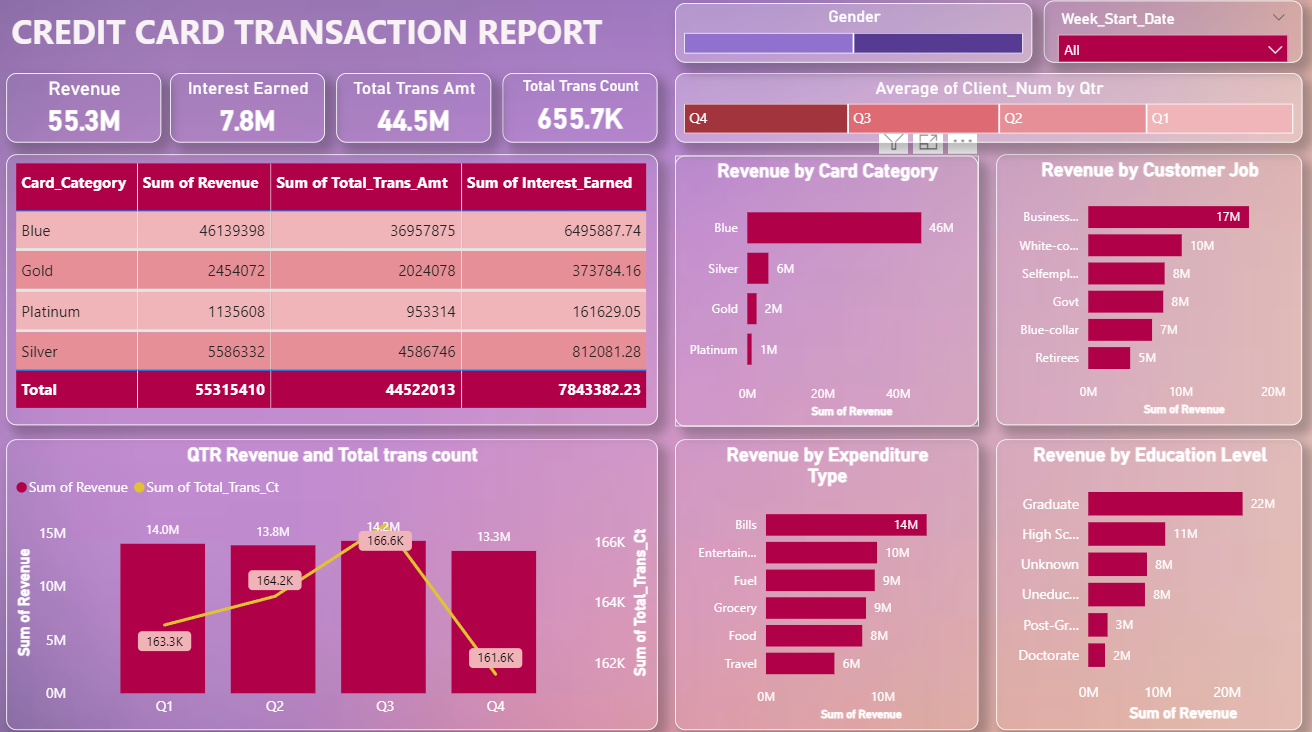

The dashboard page shown, as its layout file describes it:
{"tool":"powerbi","page":{"name":"Page 2","canvas":[1280,720],"ordinal":0},"visuals":[{"type":"lineClusteredColumnComboChart","title":"QTR Revenue and Total trans count","fields":{"Category":["cc_detail.Qtr"],"Y":["Sum(cc_detail.Revenue)"],"Y2":["Sum(cc_detail.Total_Trans_Ct)"]},"box":[10.9,430.9,628.6,281.1],"z":0},{"type":"barChart","title":"Revenue by Expenditure Type","fields":{"Y":["Sum(cc_detail.Revenue)"],"Category":["cc_detail.Exp_Type"]},"box":[656.3,430.9,293.2,281.1],"z":1000},{"type":"barChart","title":"Revenue by Education Level","fields":{"Y":["Sum(cc_detail.Revenue)"],"Category":["cust_detail.Education_Level"]},"box":[966.4,430.9,295.6,281.1],"z":2000},{"type":"barChart","title":"Revenue by Customer Job","fields":{"Y":["Sum(cc_detail.Revenue)"],"Category":["cust_detail.Customer_Job"]},"box":[966.4,155.9,295.6,261.8],"z":3000},{"type":"barChart","title":"Revenue by Card Category","fields":{"Y":["Sum(cc_detail.Revenue)"],"Category":["cc_detail.Card_Category"]},"box":[656.3,157.1,293.2,261.8],"z":4000},{"type":"tableEx","fields":{"Values":["cc_detail.Card_Category","Sum(cc_detail.Revenue)","Sum(cc_detail.Total_Trans_Amt)","Sum(cc_detail.Interest_Earned)"]},"box":[10.9,155.6,628.6,261.8],"z":5000},{"type":"card","title":"Revenue","fields":{"Values":["Sum(cc_detail.Revenue)"]},"box":[10.9,77.2,149.6,67.6],"z":6000},{"type":"card","title":"Interest Earned","fields":{"Values":["Sum(cc_detail.Interest_Earned)"]},"box":[168.9,77.5,149.6,67.6],"z":7000},{"type":"card","title":"Total Trans Count","fields":{"Values":["Sum(cc_detail.Total_Trans_Ct)"]},"box":[489.8,77.5,149.6,67.6],"z":8000},{"type":"card","title":"Total Trans Amt","fields":{"Values":["Sum(cc_detail.Total_Trans_Amt)"]},"box":[329.4,77.5,149.6,67.6],"z":9000},{"type":"slicer","fields":{"Values":["cc_detail.Week_Start_Date"]},"box":[1012.2,7.2,249.7,60.3],"z":10000},{"type":"treemap","fields":{"Group":["cc_detail.Qtr"],"Values":["Avg(cc_detail.Client_Num)"]},"box":[656.3,77.5,605.6,67.6],"z":11000},{"type":"textbox","box":[10.9,9.7,628.6,55.5],"z":12000},{"type":"treemap","title":"Gender","fields":{"Values":["Avg(cc_detail.Client_Num)"],"Group":["cust_detail.Gender"]},"box":[656.3,9.7,345,57.9],"z":13000}]}

Visuals, with their boxes in screenshot pixels (x1, y1, x2, y2), scaled from the page's 1280x720 canvas onto the 1312x732 screenshot:
"QTR Revenue and Total trans count" lineClusteredColumnComboChart: 11,438,655,724
"Revenue by Expenditure Type" barChart: 673,438,973,724
"Revenue by Education Level" barChart: 991,438,1294,724
"Revenue by Customer Job" barChart: 991,158,1294,425
"Revenue by Card Category" barChart: 673,160,973,426
tableEx - cc_detail.Card_Category x Sum(cc_detail.Revenue): 11,158,655,424
"Revenue" card: 11,78,165,147
"Interest Earned" card: 173,79,326,148
"Total Trans Count" card: 502,79,655,148
"Total Trans Amt" card: 338,79,491,148
slicer - cc_detail.Week_Start_Date: 1038,7,1293,69
treemap - cc_detail.Qtr x Avg(cc_detail.Client_Num): 673,79,1293,148
textbox: 11,10,655,66
"Gender" treemap: 673,10,1026,69
